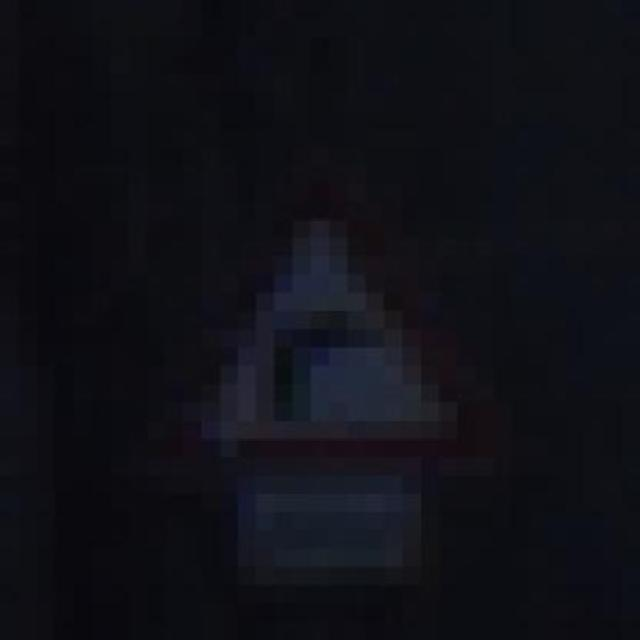Dangerous Rright Curve Ahead: (147, 146, 476, 512)
